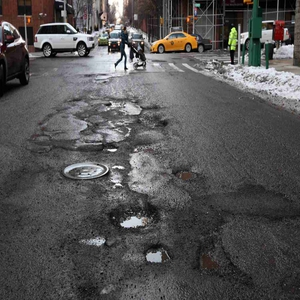pothole: (109, 202, 159, 230), (145, 244, 174, 267), (173, 165, 199, 182), (141, 113, 167, 129), (101, 146, 118, 152)
